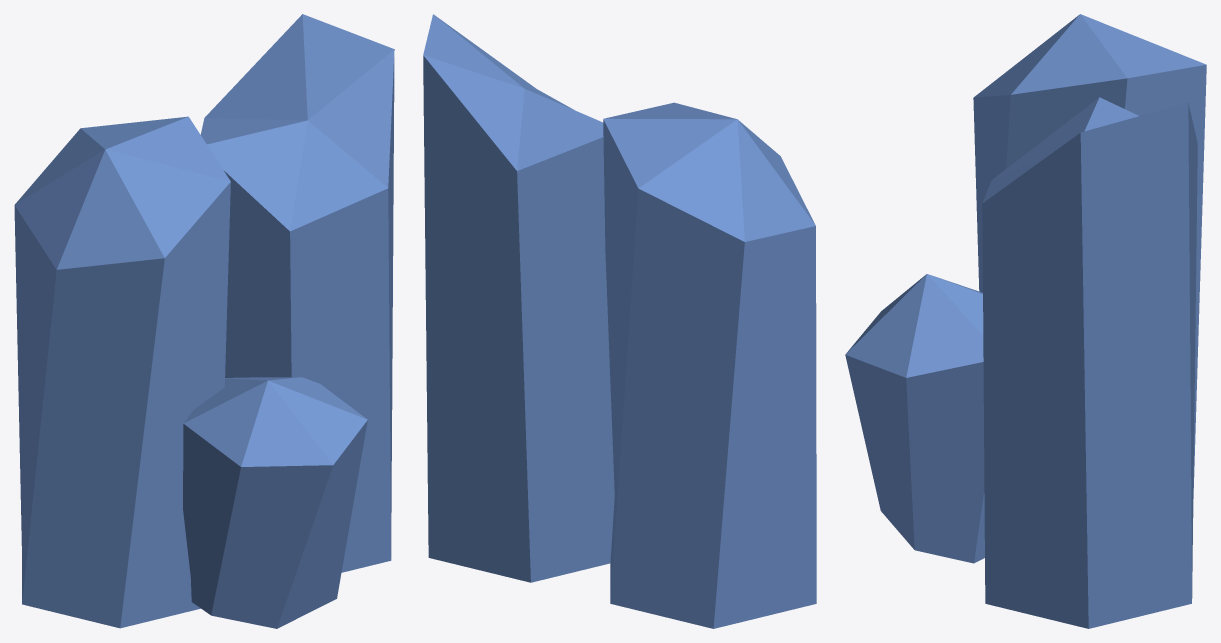
File: Crystals30.FBX
3 renders of one model, left to right at view 1: azimuth 30°, elevation 25°; view 2: azimuth 150°, elevation 25°; view 3: azimuth 270°, elevation 25°, orthographic. The views are drawn at different scales.
Visible parts, largest first — view 1: outcrys; view 2: outcrys; view 3: outcrys.
Part boxes in pixels (box(x1,y1,x2,y2)): outcrys: box(14, 14, 394, 628); outcrys: box(423, 14, 816, 628); outcrys: box(845, 14, 1206, 628).
Bounding box in the file's own units: 66.09 × 81.48 × 52.77.
